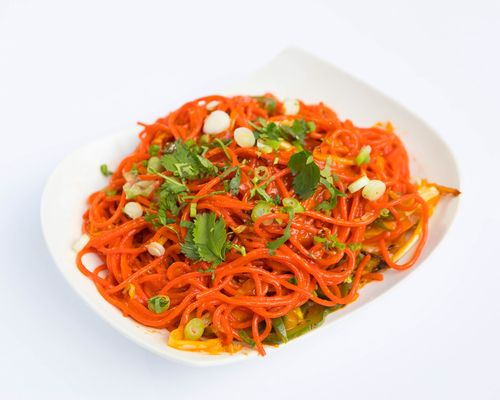pizza: (62, 94, 442, 357)
